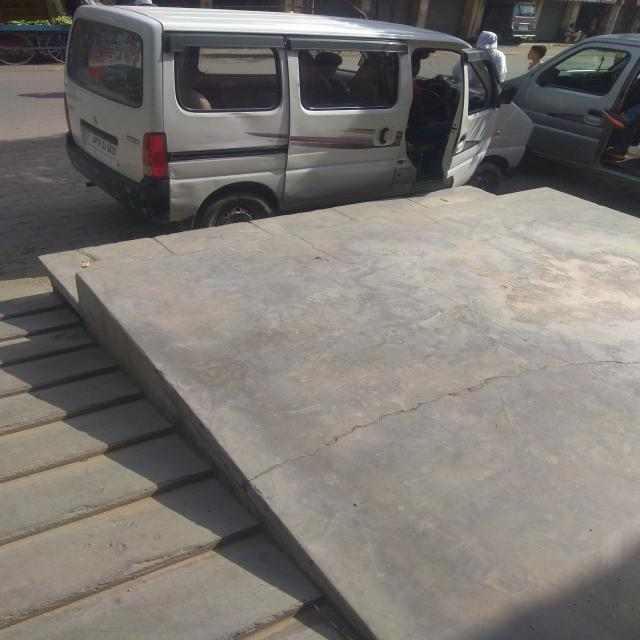Car: (65, 6, 640, 228)
